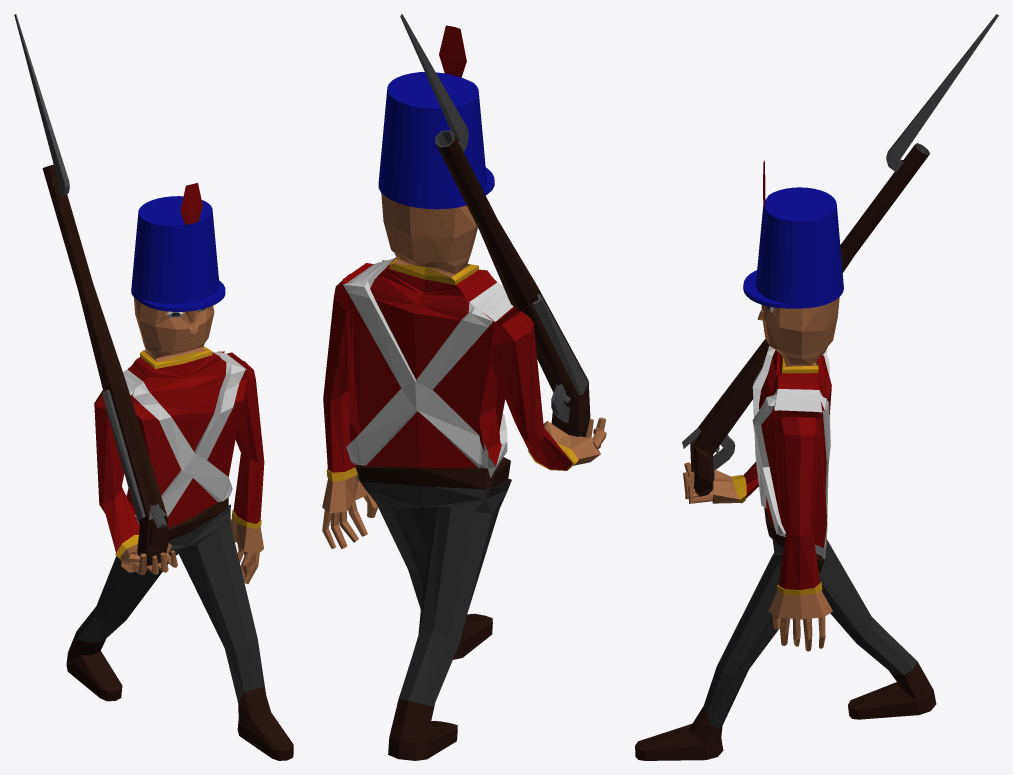
Rendered from Infantry_000126.obj.
The picture shows the model from 3 angles, left to right: view 1: azimuth 30°, elevation 25°; view 2: azimuth 150°, elevation 25°; view 3: azimuth 270°, elevation 25°; orthographic projection. The views are drawn at different scales.
Parts seen in each view (by area): view 1: {Man}_Circle, {Mesket}_Cube.001; view 2: {Man}_Circle, {Mesket}_Cube.001; view 3: {Man}_Circle, {Mesket}_Cube.001.
Part boxes in pixels (left/top/right/bottom): {Man}_Circle: left=66, top=183, right=293, bottom=760; {Mesket}_Cube.001: left=14, top=14, right=168, bottom=566; {Man}_Circle: left=322, top=25, right=606, bottom=760; {Mesket}_Cube.001: left=400, top=14, right=590, bottom=437; {Man}_Circle: left=635, top=160, right=936, bottom=760; {Mesket}_Cube.001: left=682, top=14, right=998, bottom=496.
Size of the model in its own units: 5.63 by 19.03 by 9.1.
